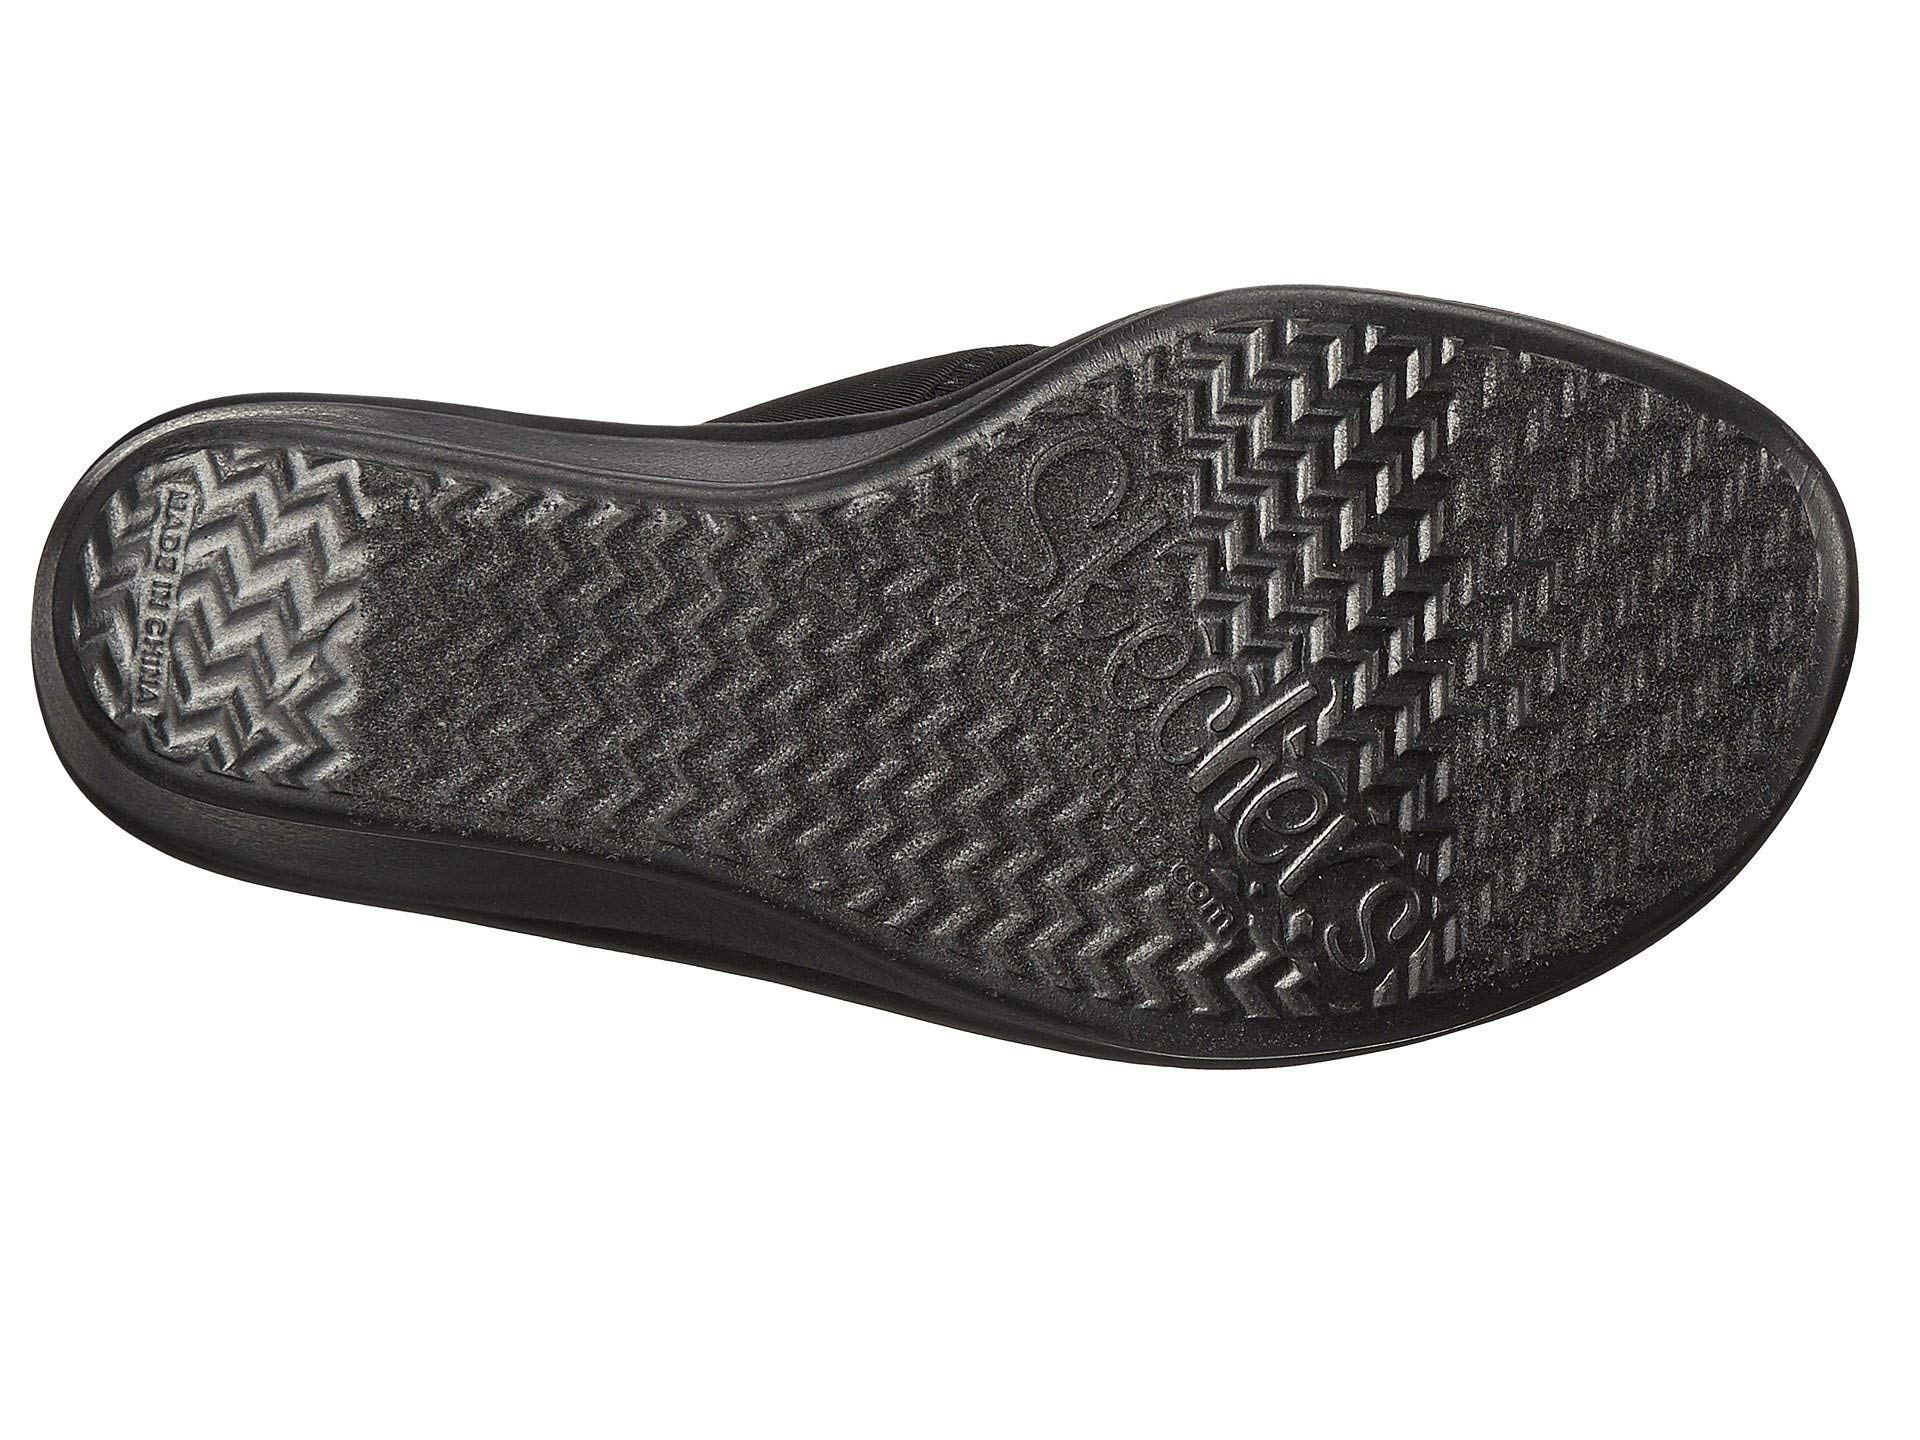chevron: (943, 439, 1420, 967), (203, 514, 544, 797)
text: (943, 439, 1420, 967)
